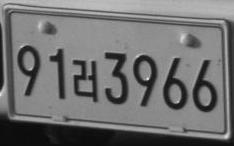1: (46, 47, 70, 99)
3: (104, 51, 128, 105)
6: (162, 56, 188, 110), (192, 59, 218, 113)
9: (132, 53, 157, 107), (16, 44, 41, 96)
러: (71, 58, 98, 103)
